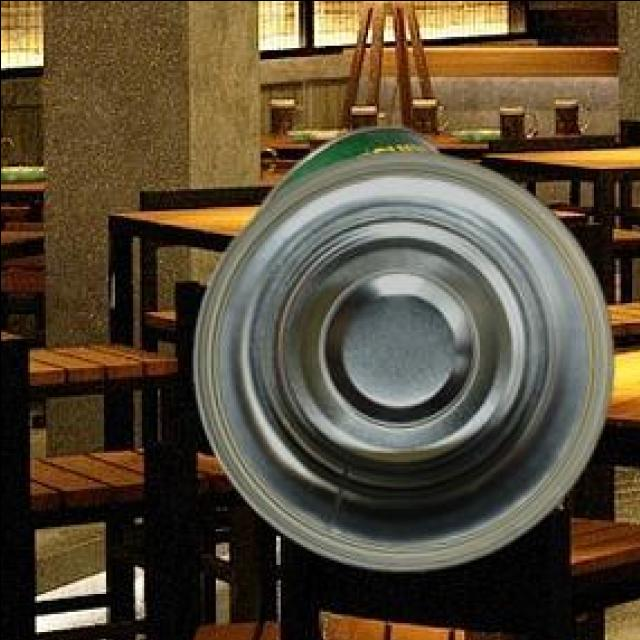logam: (191, 147, 610, 567), (256, 122, 435, 205)
